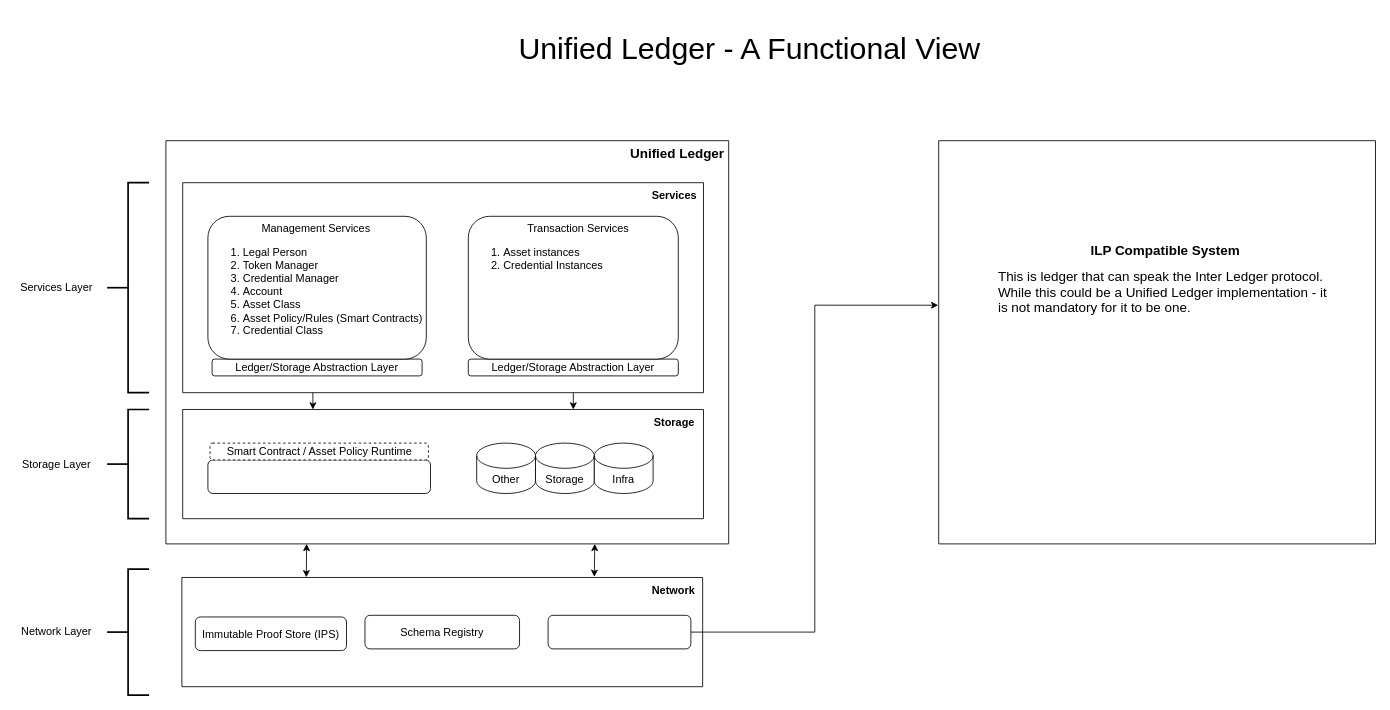
Image size: 1390x710. Some labels were removed from this diagram. The centre of each missing label's shape, as x and y in pixels:
Immutable Transaction Ledger (Solana / Eth): (318,476)
Inter Ledger Protocol (ILP): (619,631)
